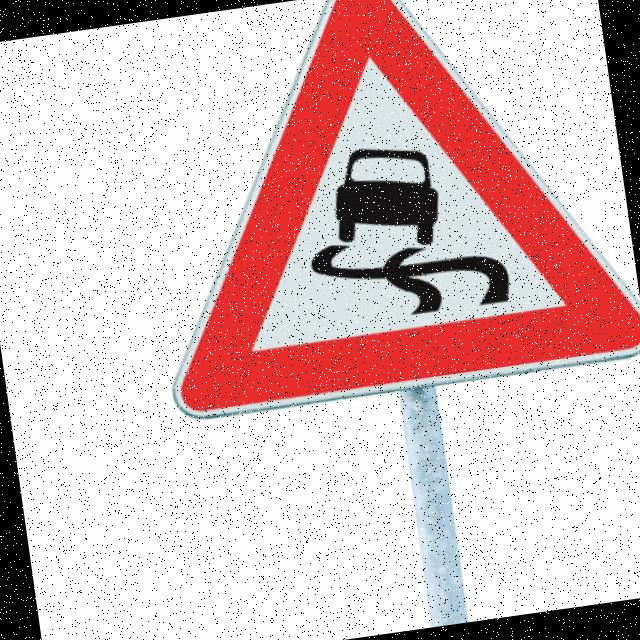road_slippery: (119, 0, 640, 427)
